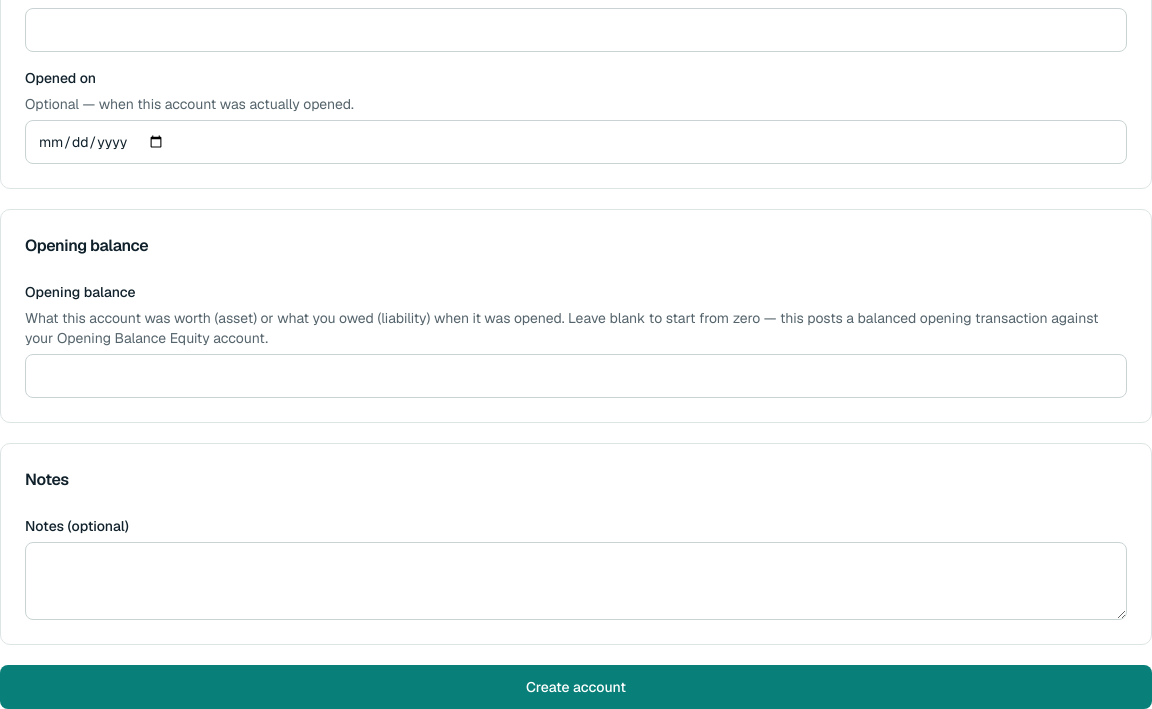
Test case: AccountForm › shows field errors returned by the Server Action
(page scrolled)
What coordinates should you click on to do the following:
click the button "Create account"
I would click on:
 (576, 687)
Its box is x1=0 y1=665 x2=1151 y2=708.
(page scrolled)
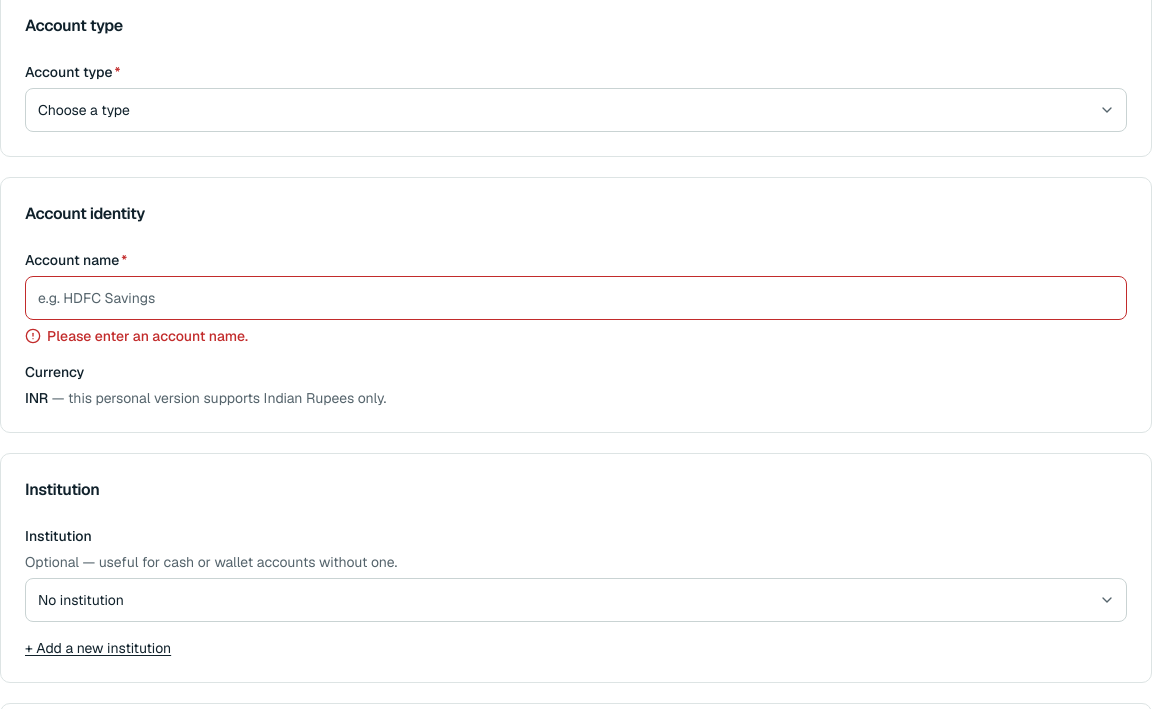
Now the text "Please enter an account name." is shown, box x1=25 y1=327 x2=248 y2=345
